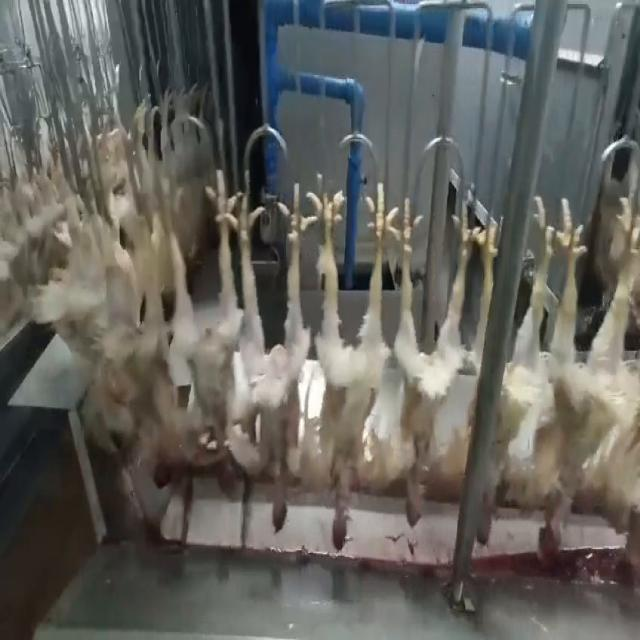chicken: (532, 194, 638, 567), (298, 177, 397, 556), (384, 186, 480, 531), (472, 204, 560, 547), (234, 173, 305, 533), (164, 166, 238, 470), (107, 179, 163, 464)
